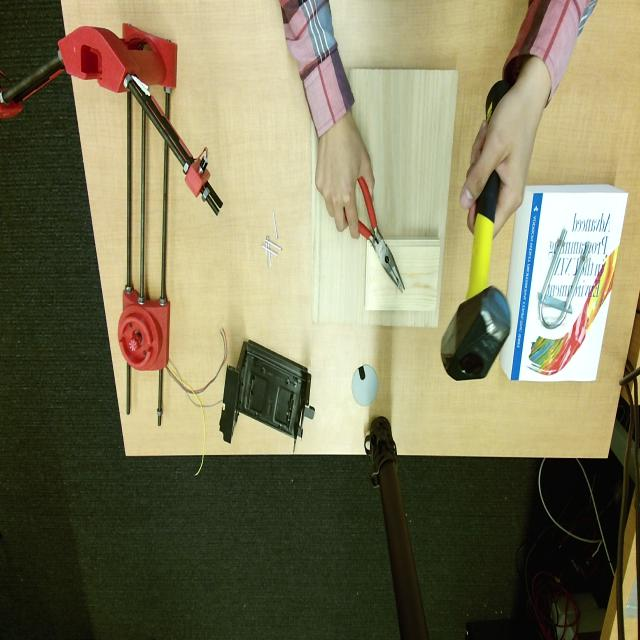hammer: (441, 171, 510, 380), (486, 82, 509, 119)
pliers: (358, 178, 405, 291)
